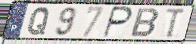7: (81, 5, 107, 39)
9: (54, 6, 79, 37)
B: (129, 7, 161, 38)
P: (102, 6, 135, 39)
Q: (27, 6, 52, 36)
T: (165, 8, 187, 39)
